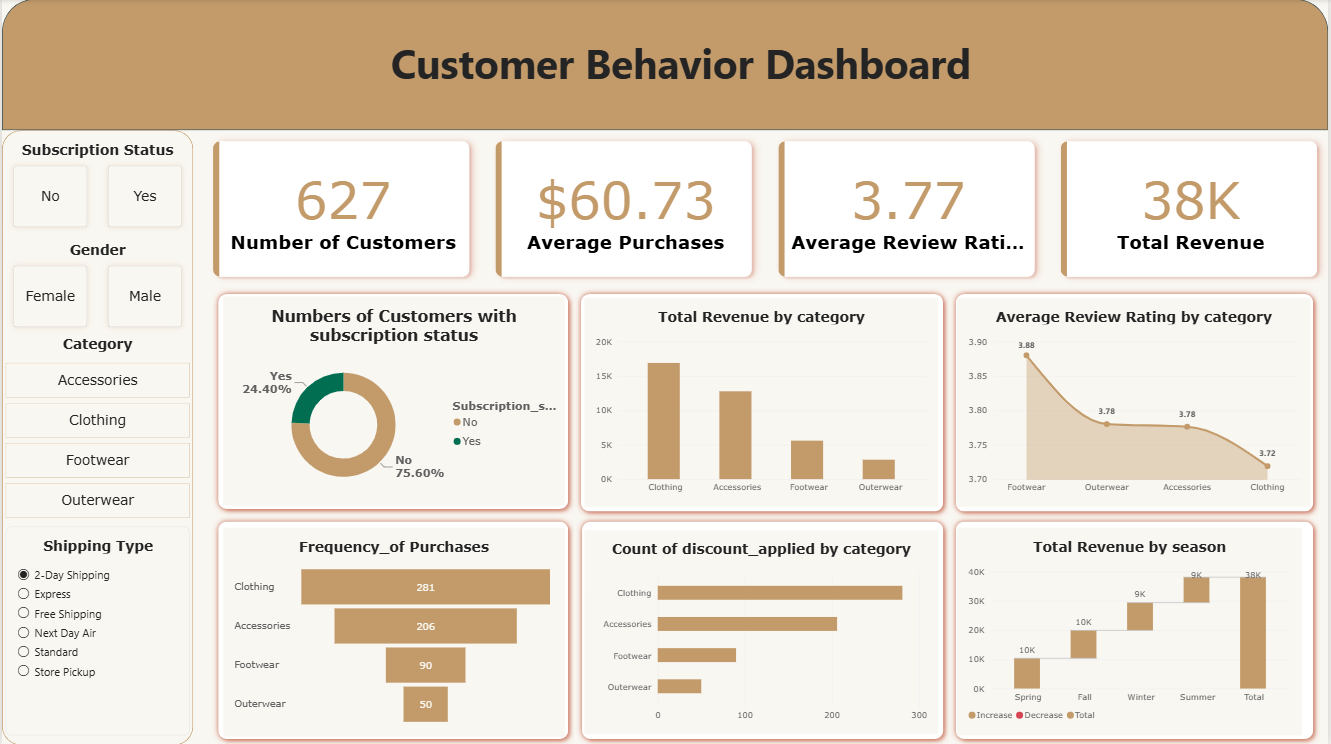

What the dashboard file says about the page in this screenshot:
{"tool":"powerbi","page":{"name":"Page 1","canvas":[1920,1080],"ordinal":0},"visuals":[{"type":"shape","box":[0,190,276.9,890.4],"z":0},{"type":"shape","box":[0,0,1920.1,190],"z":1000},{"type":"cardVisual","fields":{"Data":["Products.Number of customers","Products.Average_purchases","Products.Average_review_rating","Products.Total_revenue"]},"box":[291.4,190,1628.7,228],"z":2000},{"type":"textbox","box":[121.2,32.6,1681.2,132.1],"z":3000},{"type":"shape","box":[304,418,524.8,329.4],"z":4000},{"type":"donutChart","title":"Numbers of Customers with subscription status","fields":{"Category":["Products.subscription_status"],"Y":["CountNonNull(Products.subscription_status)"]},"box":[321,431,494,302.2],"z":5000},{"type":"shape","box":[828.8,418,542.9,333],"z":6000},{"type":"shape","box":[1371.7,418,535.7,333],"z":7000},{"type":"columnChart","fields":{"Category":["Products.category"],"Y":["Products.Total Revenue"]},"box":[843.3,432.5,512.1,302.2],"z":8000},{"type":"areaChart","fields":{"Category":["Products.category"],"Y":["Products.Average Review Rating"]},"box":[1382.6,432.5,512.1,302.2],"z":9000},{"type":"advancedSlicerVisual","title":"Subscription Status","fields":{"Values":["Products.subscription_status"]},"box":[5.4,206.3,266,135.7],"z":10000},{"type":"advancedSlicerVisual","title":"Gender","fields":{"Values":["Products.gender"]},"box":[5.4,351.1,266,135.7],"z":11000},{"type":"advancedSlicerVisual","title":"Category","fields":{"Values":["Products.category"]},"box":[5.4,486.8,266,264.2],"z":12000},{"type":"listSlicer","title":"Shipping Type","fields":{"Values":["Products.shipping_type"]},"box":[5.4,763.7,266,302.2],"z":13000},{"type":"shape","box":[304,747.4,524.8,333],"z":14000},{"type":"funnel","title":"Frequency_of Purchases","fields":{"Category":["Products.category"],"Y":["CountNonNull(Products.frequency_of_purchases)"]},"box":[320.3,765.5,494,302.2],"z":15000},{"type":"shape","box":[830.6,747.4,541.1,333],"z":16000},{"type":"clusteredBarChart","fields":{"Category":["Products.category"],"Y":["CountNonNull(Products.discount_applied)"]},"box":[843.3,769.1,512.1,295],"z":17000},{"type":"shape","box":[1371.7,747.4,535.7,333],"z":18000},{"type":"waterfallChart","fields":{"Category":["Products.season"],"Y":["Products.Total Revenue"]},"box":[1382.6,765.5,499.5,300.4],"z":19000}]}

Visuals, with their boxes in screenshot pixels (x1, y1, x2, y2), scaled from the page's 1920x1080 canvas onto the 1331x744 screenshot:
shape: l=0, t=131, r=192, b=743
shape: l=0, t=0, r=1330, b=131
cardVisual - Products.Number of customers x Products.Average_purchases: l=202, t=131, r=1330, b=288
textbox: l=84, t=22, r=1249, b=113
shape: l=211, t=288, r=575, b=515
"Numbers of Customers with subscription status" donutChart: l=223, t=297, r=565, b=505
shape: l=575, t=288, r=951, b=517
shape: l=951, t=288, r=1322, b=517
columnChart - Products.category x Products.Total Revenue: l=585, t=298, r=940, b=506
areaChart - Products.category x Products.Average Review Rating: l=958, t=298, r=1313, b=506
"Subscription Status" advancedSlicerVisual: l=4, t=142, r=188, b=236
"Gender" advancedSlicerVisual: l=4, t=242, r=188, b=335
"Category" advancedSlicerVisual: l=4, t=335, r=188, b=517
"Shipping Type" listSlicer: l=4, t=526, r=188, b=734
shape: l=211, t=515, r=575, b=743
"Frequency_of Purchases" funnel: l=222, t=527, r=564, b=736
shape: l=576, t=515, r=951, b=743
clusteredBarChart - Products.category x CountNonNull(Products.discount_applied): l=585, t=530, r=940, b=733
shape: l=951, t=515, r=1322, b=743
waterfallChart - Products.season x Products.Total Revenue: l=958, t=527, r=1305, b=734
